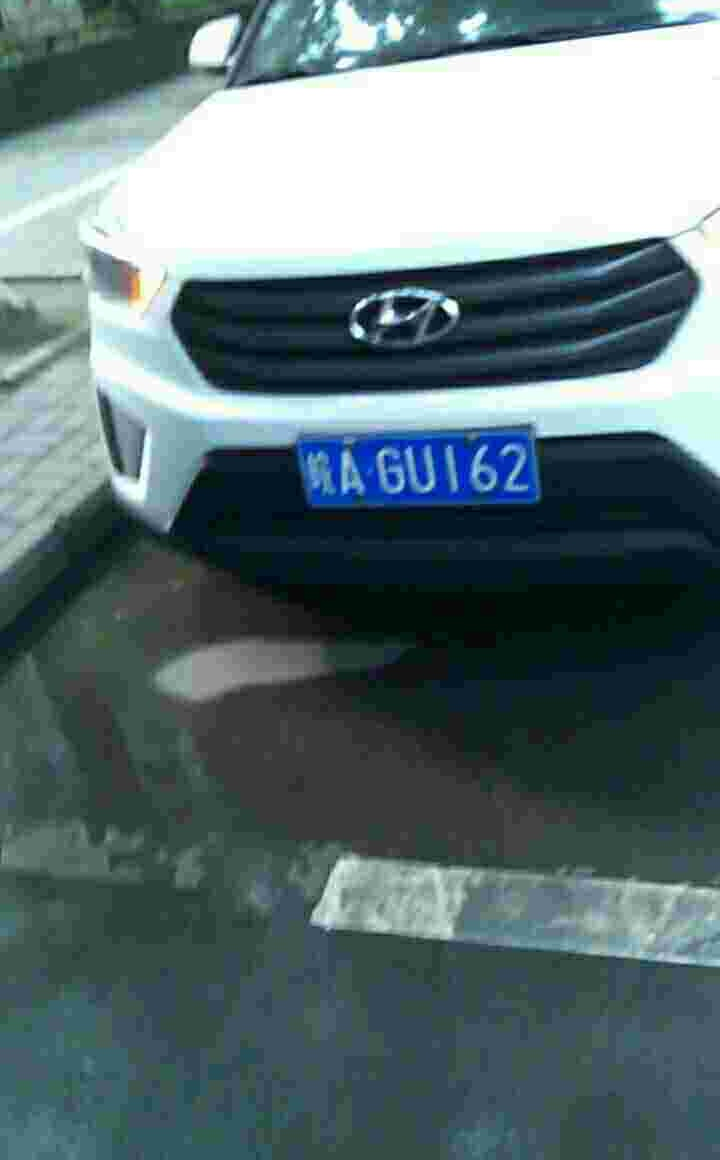license_plate: (295, 426, 544, 518)
